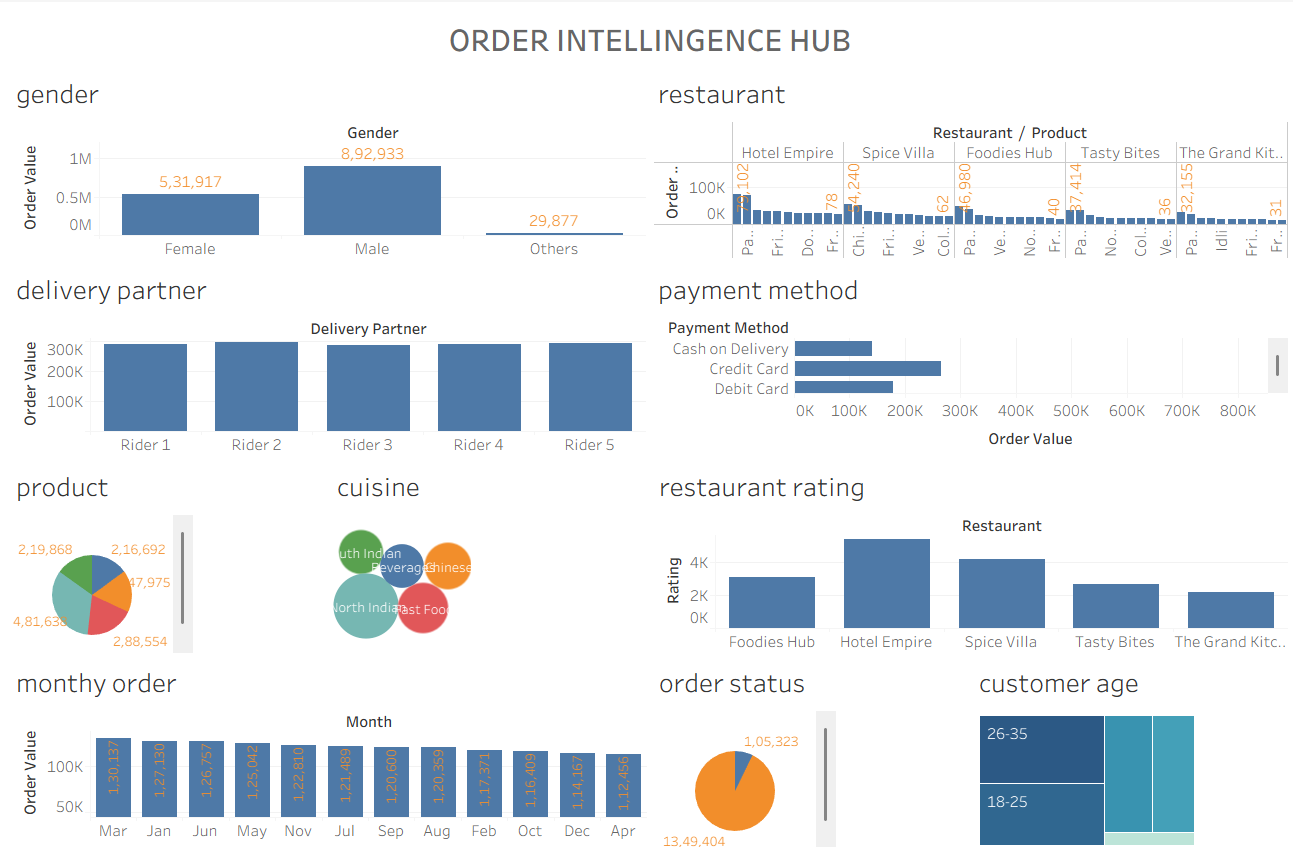

Layout of this report page (visuals, bound fields, positions):
{"tool":"tableau","page":{"name":"Dashboard 1","canvas":[1300,860],"ordinal":0},"visuals":[{"type":"text","box":[8,8,1284,58]},{"type":"worksheet","title":"gender","mark":"Automatic","rows":["Order_Value"],"cols":["Gender"],"box":[8,66,642,196.5]},{"type":"worksheet","title":"restaurant","mark":"Bar","rows":["Order_Value"],"cols":["Restaurant","Product"],"box":[650,66,642,196.5]},{"type":"worksheet","title":"delivery partner","mark":"Automatic","rows":["Order_Value"],"cols":["Delivery_Partner"],"box":[8,262.5,642,196.5]},{"type":"worksheet","title":"payment method","mark":"Automatic","rows":["Payment_Method"],"cols":["Order_Value"],"box":[650,262.5,642,196.5]},{"type":"worksheet","title":"product","mark":"Pie","box":[8,459,321.3,196.5]},{"type":"worksheet","title":"cuisine","mark":"Circle","box":[329.3,459,321.3,196.5]},{"type":"worksheet","title":"restaurant rating","mark":"Automatic","rows":["Rating"],"cols":["Restaurant"],"box":[650.6,459,641.4,196.5]},{"type":"worksheet","title":"monthy order","mark":"Bar","rows":["Order_Value"],"cols":["Month"],"box":[8,655.5,642.6,196.5]},{"type":"worksheet","title":"order status","mark":"Pie","box":[650.6,655.5,320.4,196.5]},{"type":"worksheet","title":"customer age","mark":"Automatic","box":[971,655.5,321,196.5]}]}

Visuals, with their boxes in screenshot pixels (x1, y1, x2, y2), scaled from the page's 1300x860 canvas onto the 1293x847 screenshot:
text: [8,8,1285,65]
"gender" worksheet: [8,65,646,259]
"restaurant" worksheet (Bar marks): [646,65,1285,259]
"delivery partner" worksheet: [8,259,646,452]
"payment method" worksheet: [646,259,1285,452]
"product" worksheet (Pie marks): [8,452,328,646]
"cuisine" worksheet (Circle marks): [328,452,647,646]
"restaurant rating" worksheet: [647,452,1285,646]
"monthy order" worksheet (Bar marks): [8,646,647,839]
"order status" worksheet (Pie marks): [647,646,966,839]
"customer age" worksheet: [966,646,1285,839]
